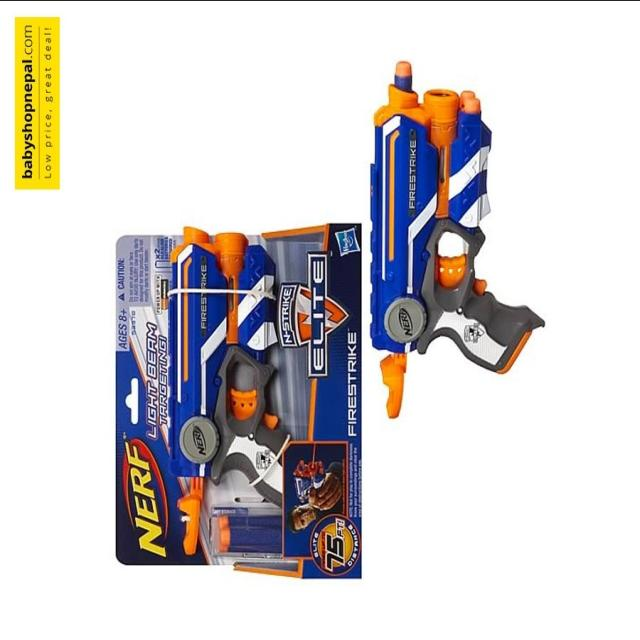Nerf gun: (362, 58, 546, 424), (160, 217, 301, 554)
